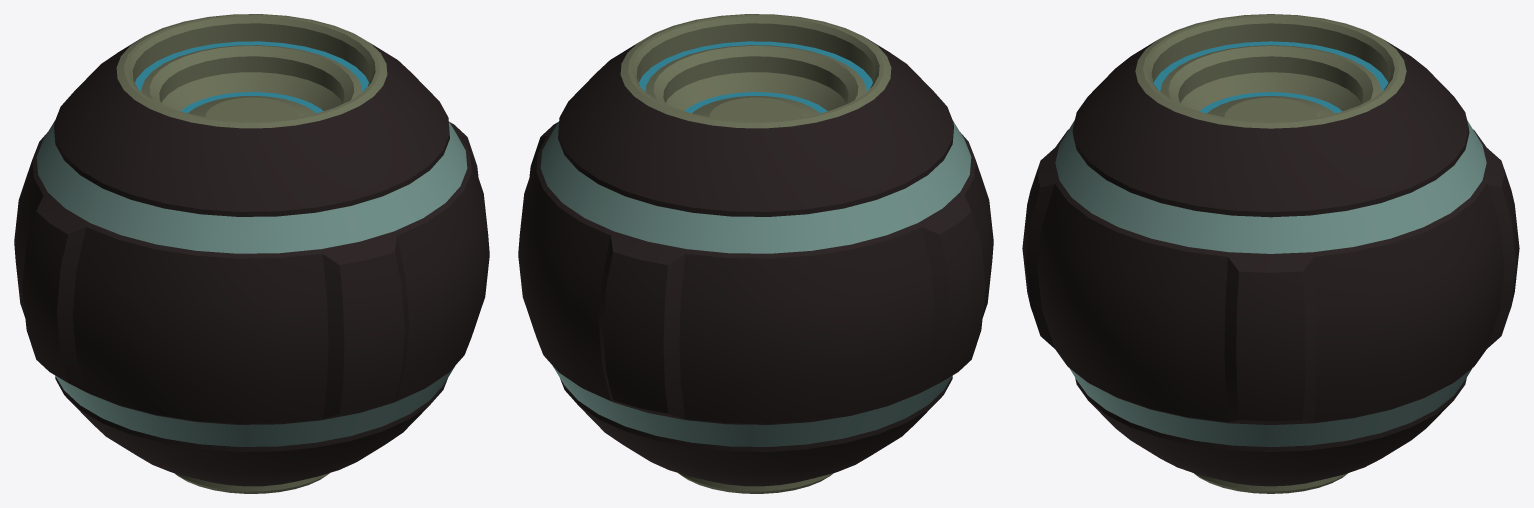
Rendered from pod.gltf.
The picture shows the model from 3 angles, left to right: view 1: azimuth 30°, elevation 25°; view 2: azimuth 150°, elevation 25°; view 3: azimuth 270°, elevation 25°; orthographic projection.
Visible parts, largest first — view 1: Sphere; view 2: Sphere; view 3: Sphere.
Part boxes in pixels (x1,y1,x2,y2): Sphere: (14, 14, 489, 493); Sphere: (518, 14, 993, 493); Sphere: (1022, 14, 1519, 493).
Bounding box in the file's own units: 2.61 × 2.25 × 2.61.
Materials: 1 (1 with a texture image).
